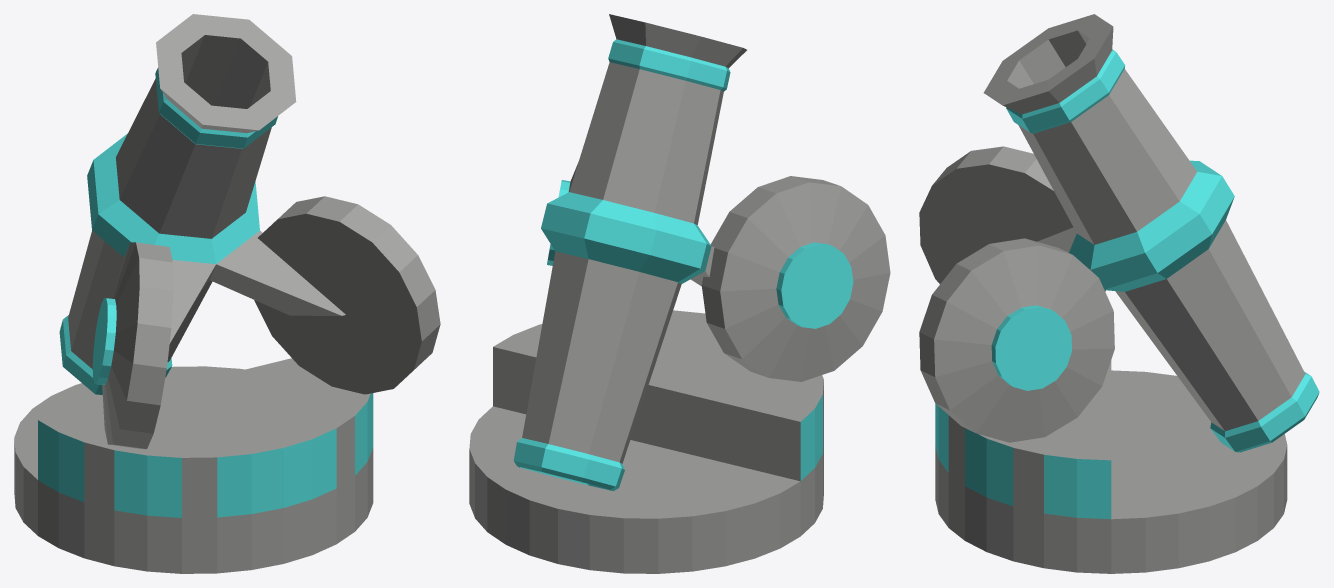
File: Mortar_Basic_Ice.fbx
3 renders of one model, left to right at view 1: azimuth 30°, elevation 25°; view 2: azimuth 150°, elevation 25°; view 3: azimuth 270°, elevation 25°, orthographic. The views are drawn at different scales.
Visible parts, largest first — view 1: Circle; view 2: Circle; view 3: Circle.
Boxes of the visible parts, bbox=[...] form: Circle: bbox=[14, 14, 440, 573]; Circle: bbox=[469, 14, 890, 573]; Circle: bbox=[919, 14, 1319, 573].
Size of the model in its own units: 492 by 724 by 555.
Materials: 1 (1 with a texture image).
